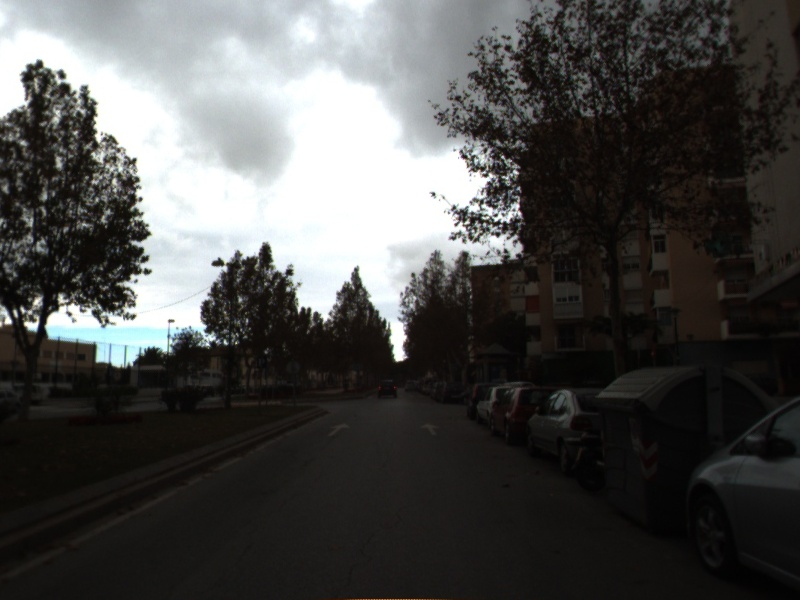STRAIGHT: (325, 421, 353, 438), (419, 421, 442, 437)
